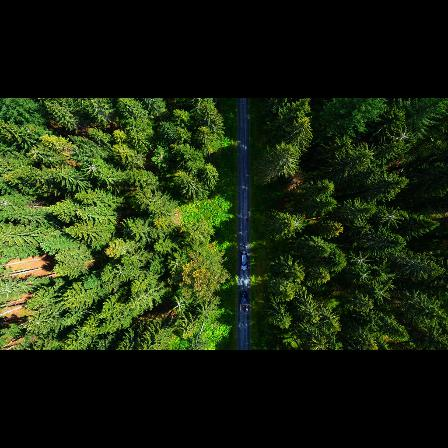Sick: (376, 206, 406, 229), (390, 122, 416, 147), (286, 214, 311, 238), (345, 250, 373, 271), (79, 156, 102, 180), (168, 294, 191, 317), (368, 285, 394, 304), (352, 269, 374, 286)
